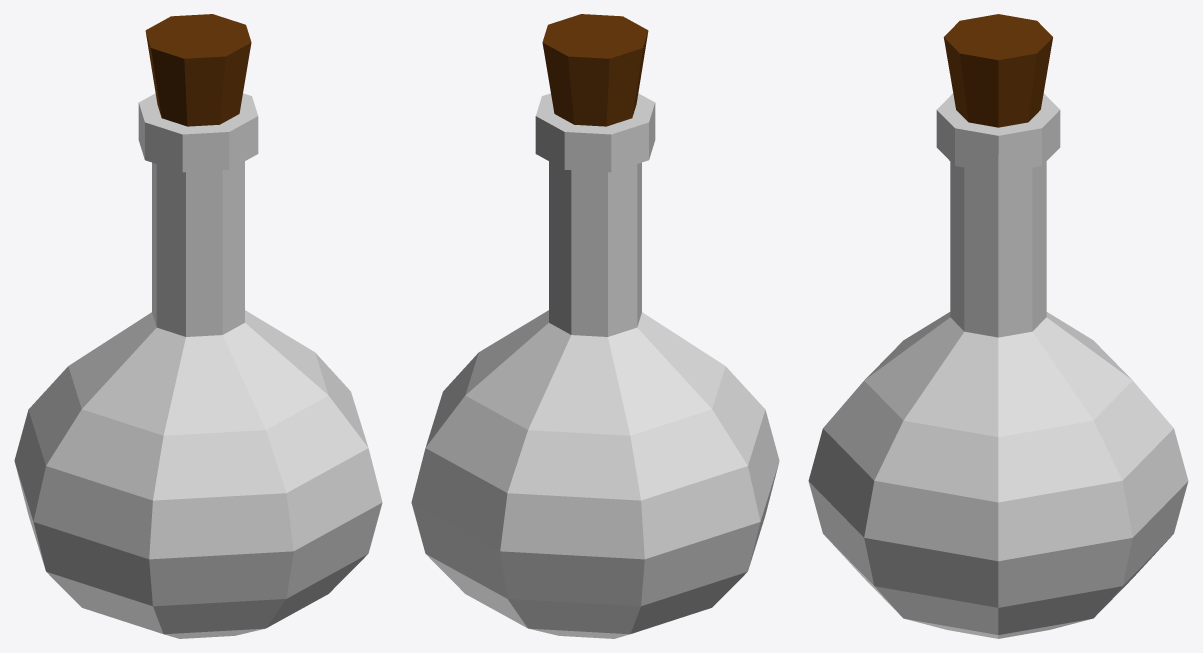
Rendered from bottlemia.fbx.
3 views of the same model, side by side, from view 1: azimuth 30°, elevation 25°; view 2: azimuth 150°, elevation 25°; view 3: azimuth 270°, elevation 25° (orthographic).
Visible parts, largest first — view 1: Bottle_01.001, Bottle_01; view 2: Bottle_01.001, Bottle_01; view 3: Bottle_01.001, Bottle_01.
Part boxes in pixels (x1,y1,x2,y2): Bottle_01.001: (14, 93, 382, 638); Bottle_01: (145, 14, 251, 126); Bottle_01.001: (411, 93, 779, 638); Bottle_01: (542, 14, 648, 126); Bottle_01.001: (808, 93, 1188, 638); Bottle_01: (943, 14, 1052, 127).
Bounding box in the file's own units: 12.65 × 21.36 × 12.65.
